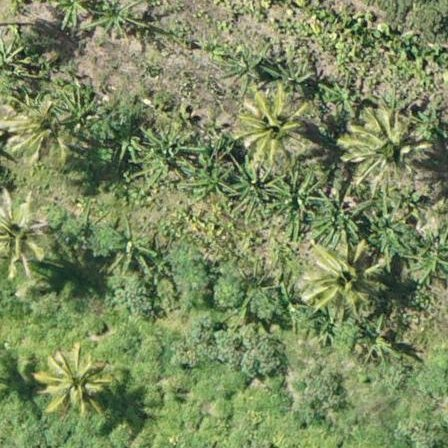palm_tree: (301, 239, 375, 318), (1, 95, 70, 164), (41, 351, 107, 415), (244, 93, 304, 157), (356, 119, 413, 179), (1, 199, 47, 267)
